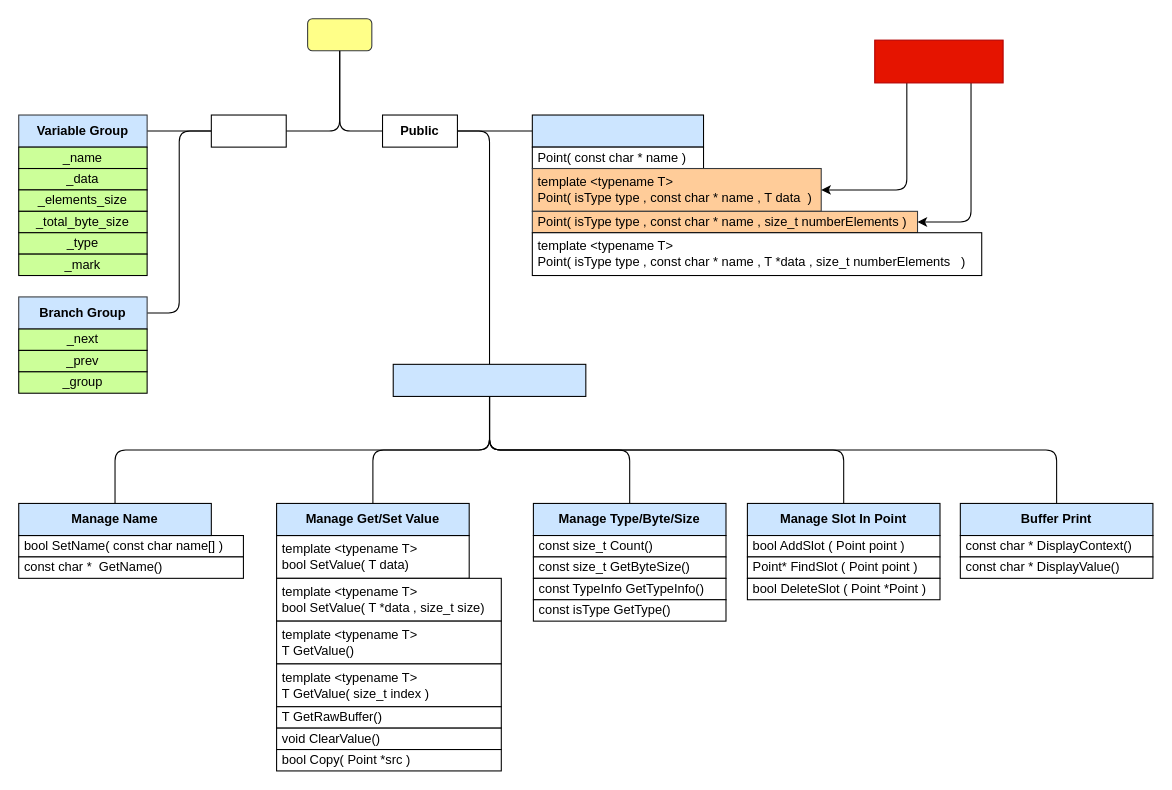
Image size: 1172x790. Some labels were removed from this diagram. The shapes that lost their labels are listed below. From the top down, each one's box as (x1, y1, x2, y2) in pixels, then its label:
(307, 18, 372, 51): Point
(874, 39, 1003, 83): must Improve !!!!
(210, 114, 286, 147): Private
(531, 114, 704, 147): Constructure
(392, 363, 586, 396): Method Group For Point
